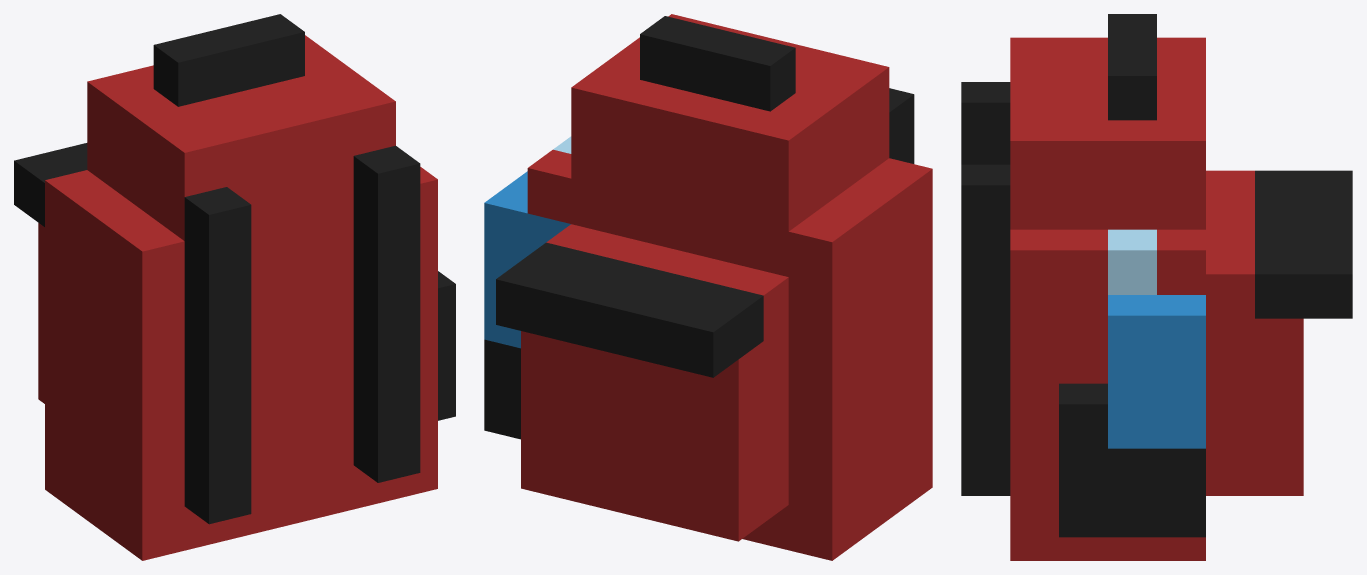
The model's file is backpack.gltf.
3 renders of one model, left to right at view 1: azimuth 30°, elevation 25°; view 2: azimuth 150°, elevation 25°; view 3: azimuth 270°, elevation 25°, orthographic. The views are drawn at different scales.
Parts seen in each view (by area): view 1: Layer.1; view 2: Layer.1; view 3: Layer.1.
Part boxes in pixels (x1,y1,x2,y2): Layer.1: (14,14,455,560); Layer.1: (484,14,932,560); Layer.1: (961,14,1352,560).
Bounding box in the file's own units: 8 × 10 × 8.
Materials: 1 (1 with a texture image).
